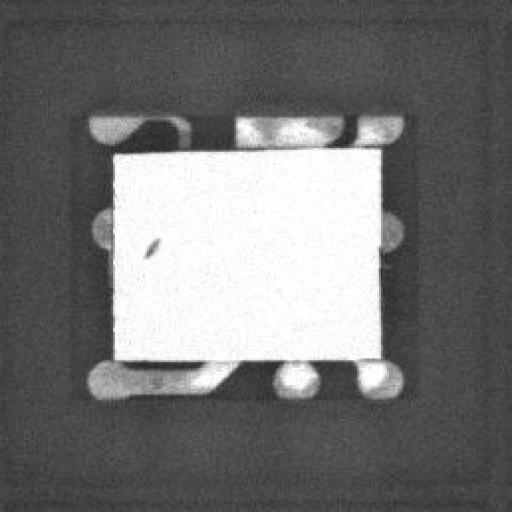DIE_INK: (132, 244, 152, 268)
